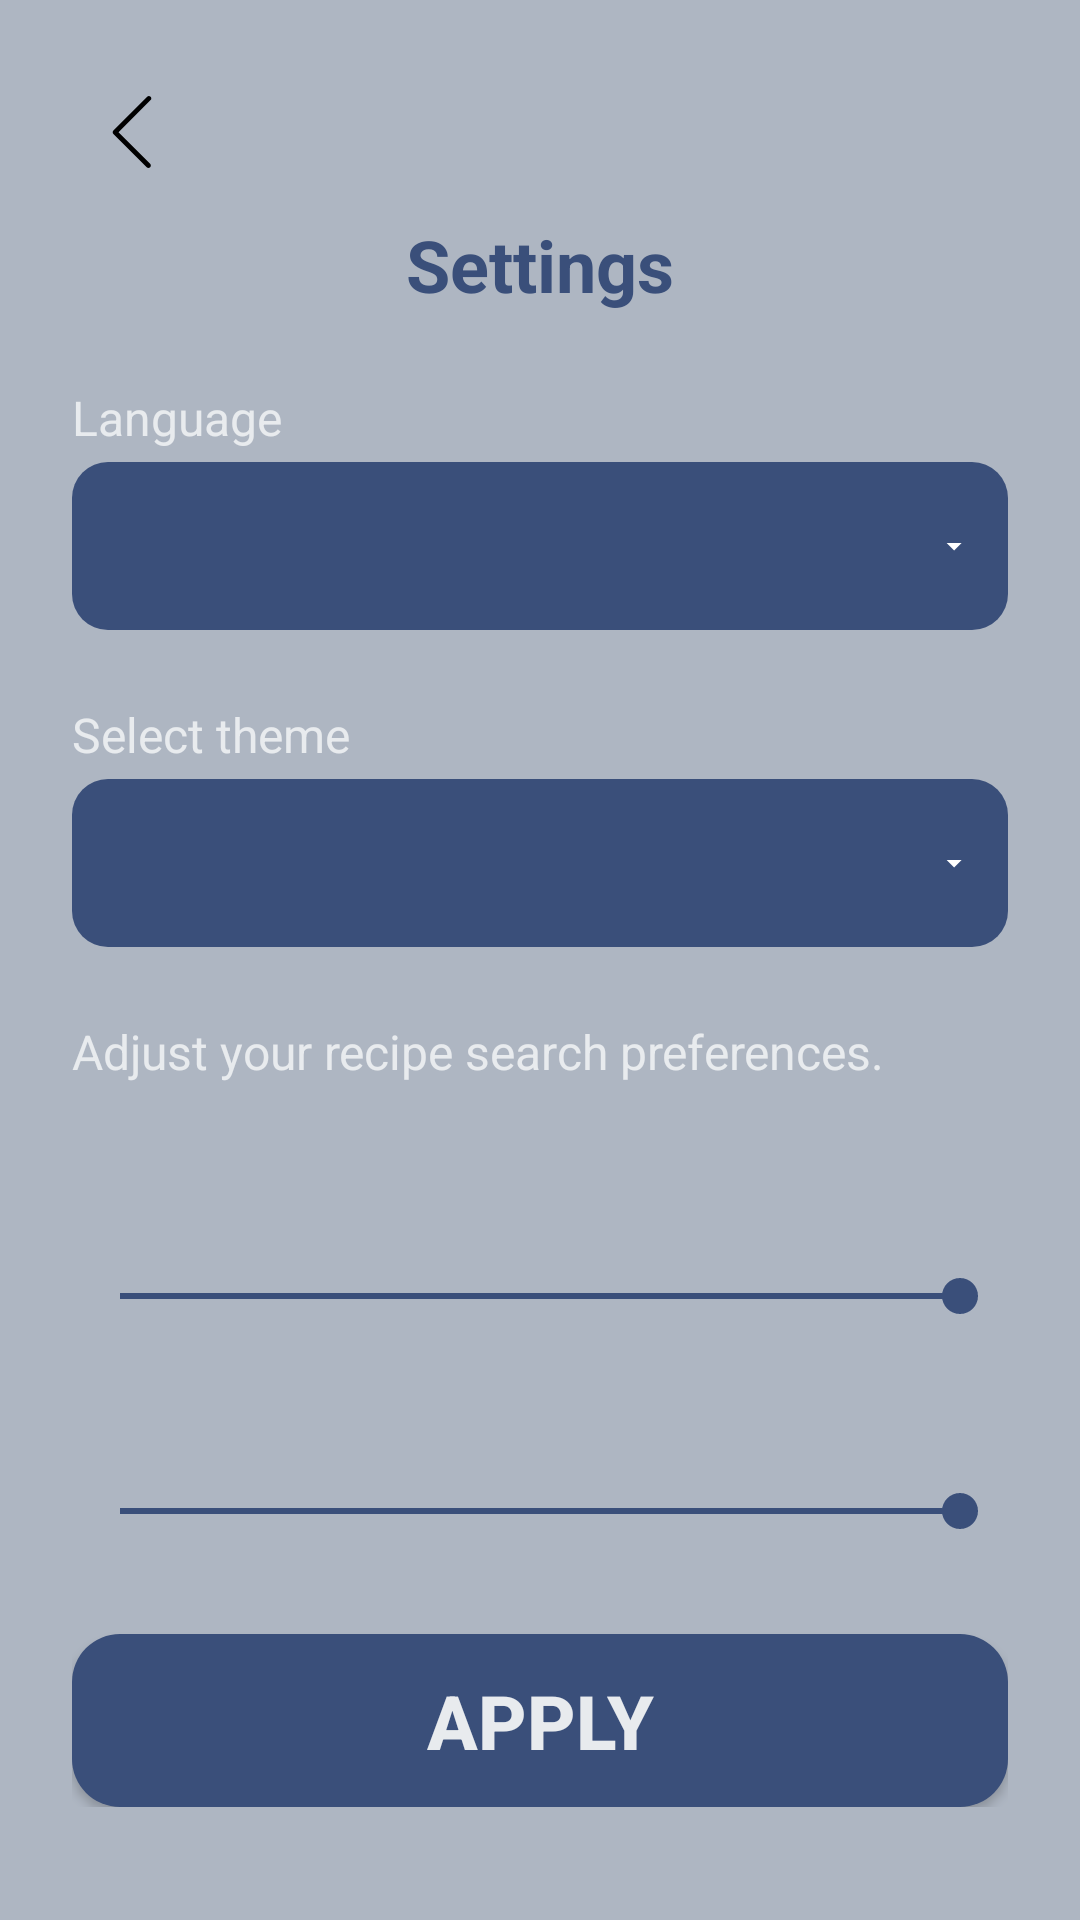

Screen size 1080px×1920px. Icon name, then its center in pixels as point (x, y):
Back: point (132, 132)
